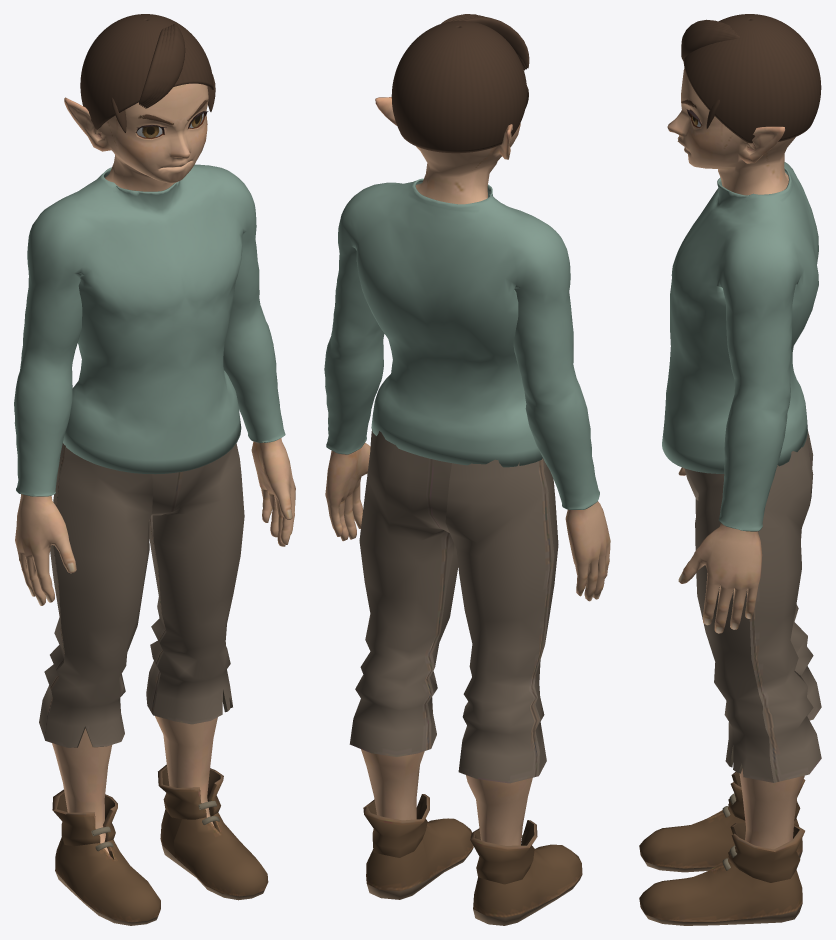
The model's file is boy-light.glb.
3 views of the same model, side by side, from view 1: azimuth 30°, elevation 25°; view 2: azimuth 150°, elevation 25°; view 3: azimuth 270°, elevation 25° (orthographic).
Parts seen in each view (by area): view 1: boy • Plain shirt • neutral sage, boy • Pant_043__Mt_Lower_043, boy • continuous skin, Hair • detailed boy; view 2: boy • Pant_043__Mt_Lower_043, boy • Plain shirt • neutral sage, boy • continuous skin, Hair • detailed boy; view 3: boy • Plain shirt • neutral sage, boy • Pant_043__Mt_Lower_043, boy • continuous skin, Hair • detailed boy.
Part boxes in pixels (x1,y1,x2,y2): boy • Plain shirt • neutral sage: (14,164,285,496); boy • Pant_043__Mt_Lower_043: (39,443,268,925); boy • continuous skin: (15,83,295,854); Hair • detailed boy: (80,14,215,132); boy • Pant_043__Mt_Lower_043: (349,429,582,925); boy • Plain shirt • neutral sage: (324,178,599,509); boy • continuous skin: (325,97,610,845); Hair • detailed boy: (391,14,529,153); boy • Plain shirt • neutral sage: (662,162,818,531); boy • Pant_043__Mt_Lower_043: (639,431,821,925); boy • continuous skin: (667,68,804,849); Hair • detailed boy: (681,14,821,143).
Size of the model in its own units: 0.5778 by 1.76 by 0.3363.
11 materials, 10 textured.
